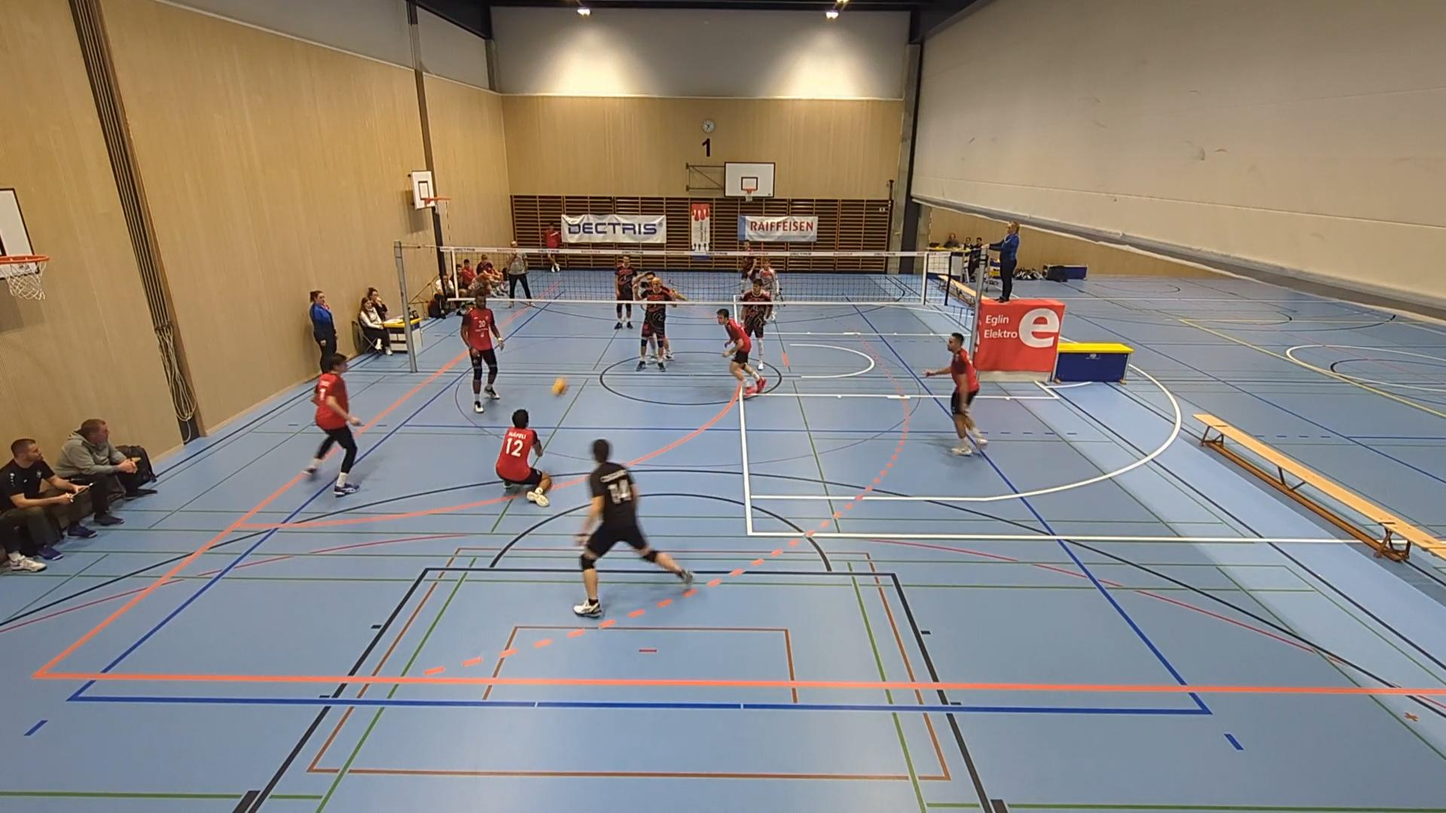Player: (574, 439, 692, 617), (305, 354, 362, 496), (924, 333, 987, 455), (460, 291, 504, 413), (636, 275, 681, 370), (716, 309, 764, 397), (740, 279, 772, 358), (615, 256, 636, 329), (755, 257, 780, 302), (738, 241, 758, 288)
Receive: (489, 406, 553, 508)
